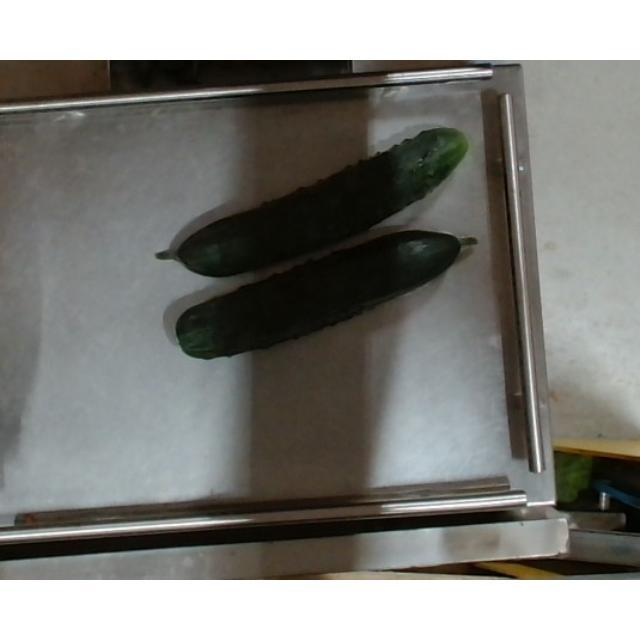cucumber: (154, 126, 468, 278), (174, 229, 478, 361)
